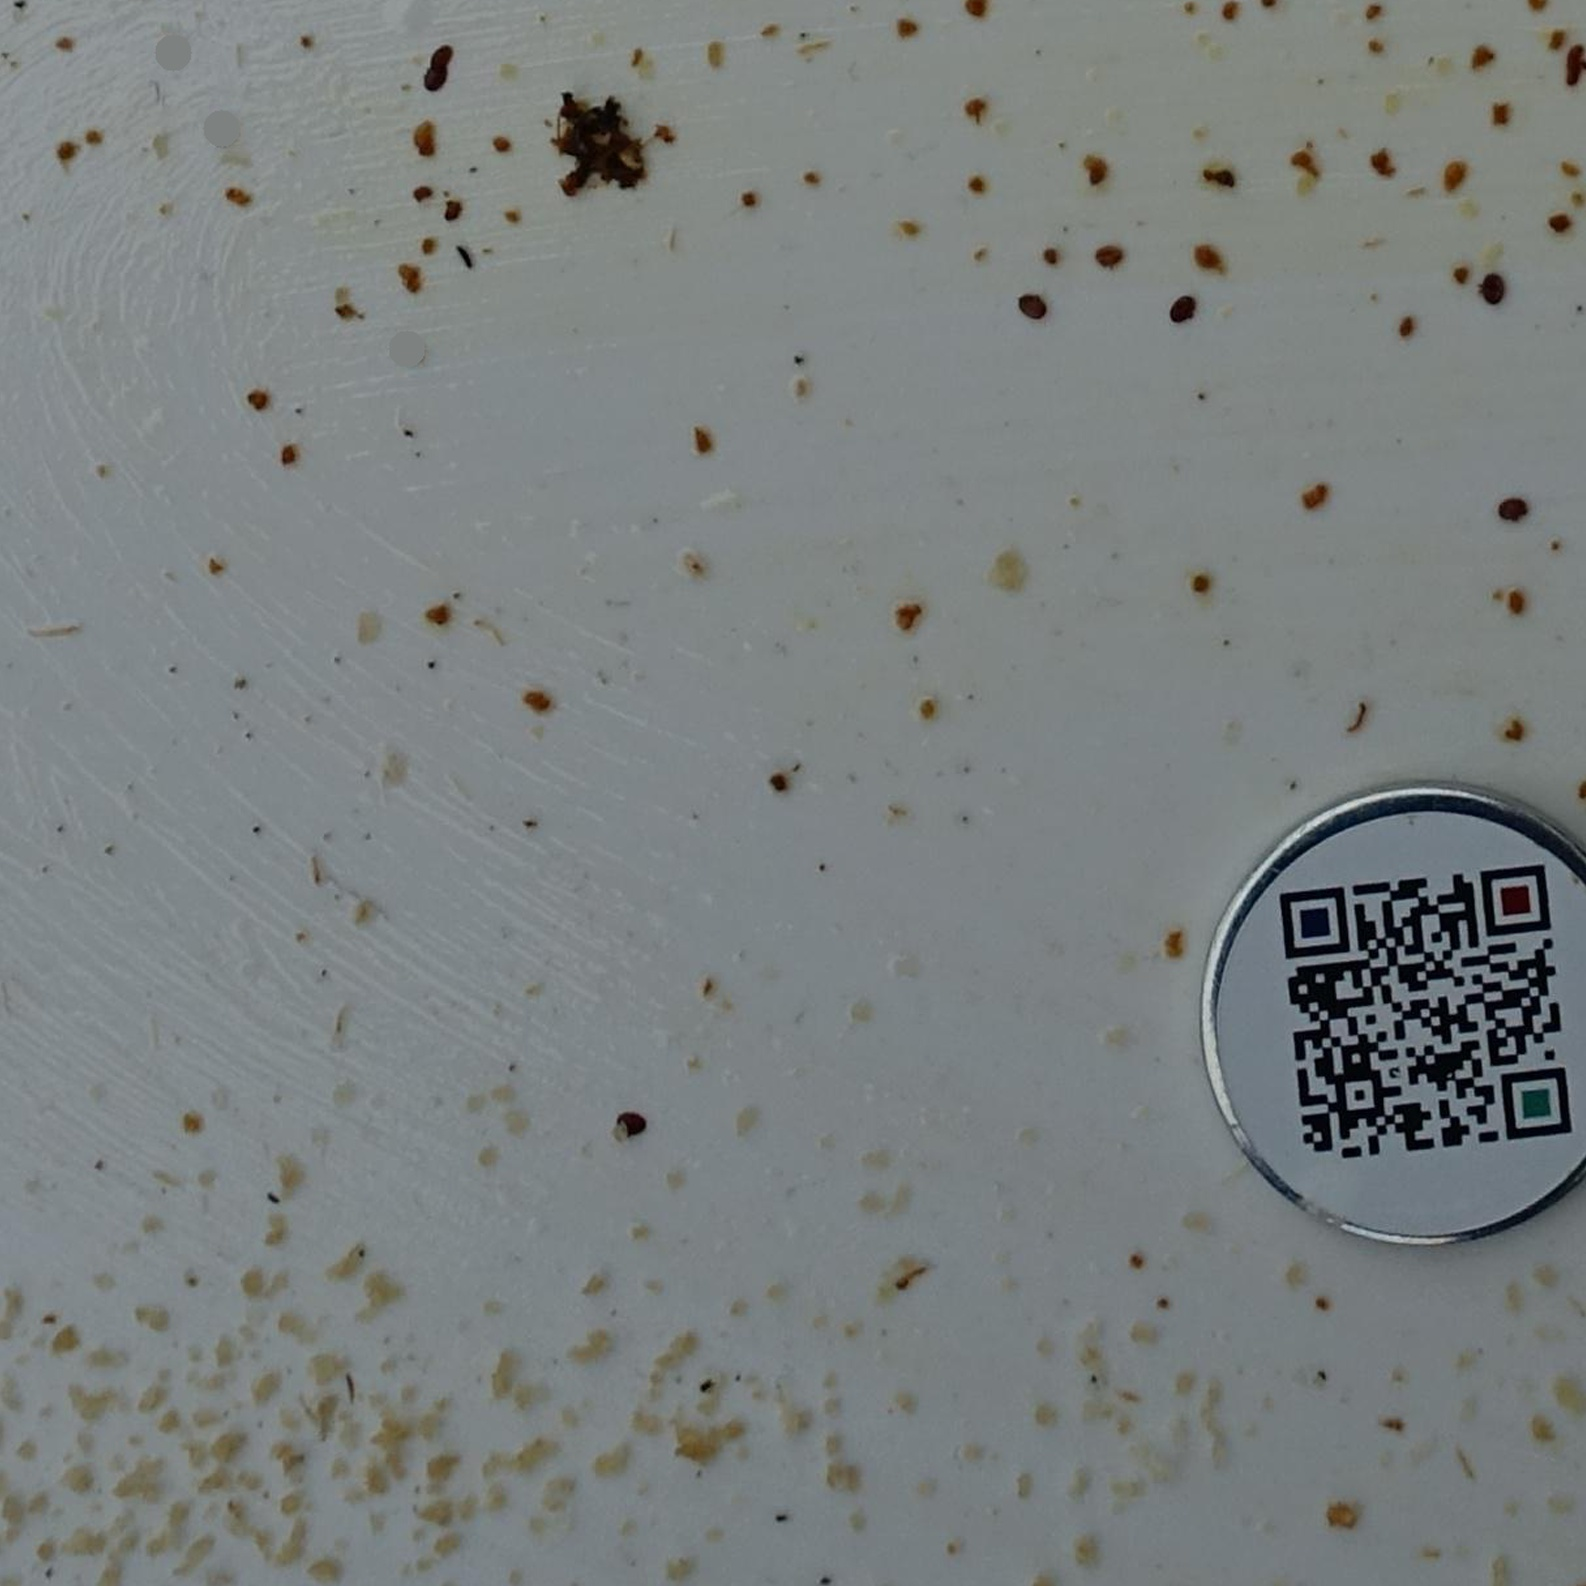Varroa: (1095, 245, 1123, 272), (1172, 296, 1200, 322), (1497, 495, 1525, 521), (427, 64, 452, 87), (620, 1110, 642, 1133), (1484, 274, 1505, 296), (1027, 296, 1040, 309)
